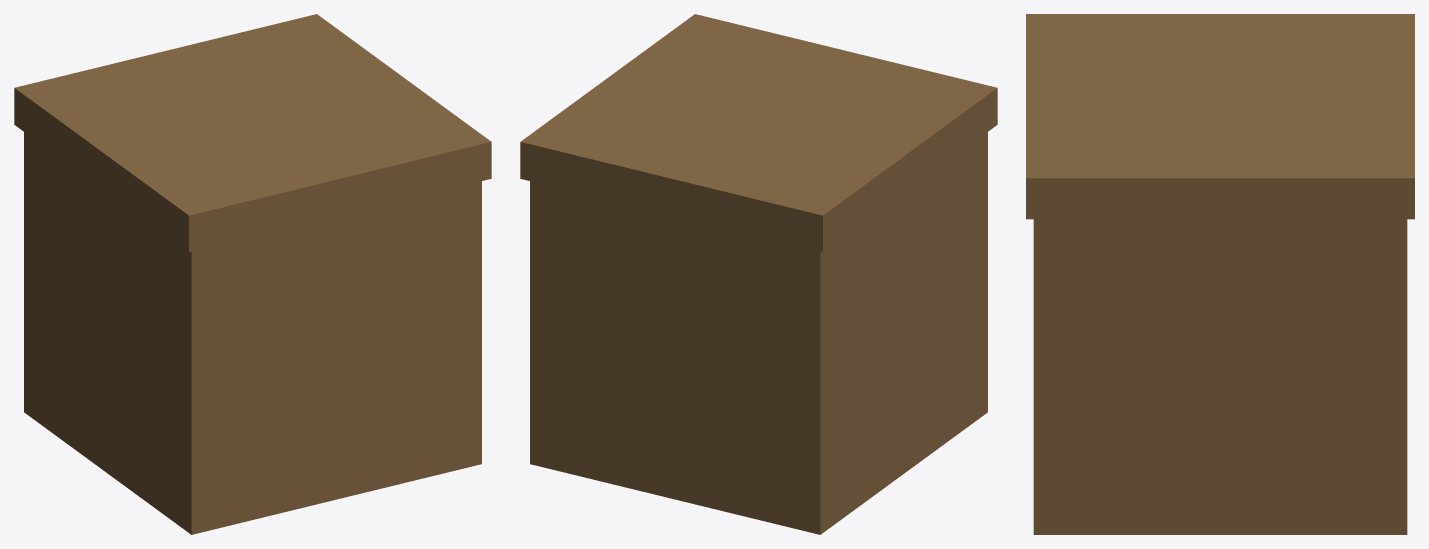
Rendered from Wooden Box_1.fbx.
3 views of the same model, side by side, from view 1: azimuth 30°, elevation 25°; view 2: azimuth 150°, elevation 25°; view 3: azimuth 270°, elevation 25° (orthographic). The views are drawn at different scales.
Parts seen in each view (by area): view 1: Wooden Box_1; view 2: Wooden Box_1; view 3: Wooden Box_1.
Part boxes in pixels (<box>): Wooden Box_1: <box>14,14,491,534</box>; Wooden Box_1: <box>520,14,997,534</box>; Wooden Box_1: <box>1026,14,1414,534</box>.
Size of the model in its own units: 206 by 211 by 206.
